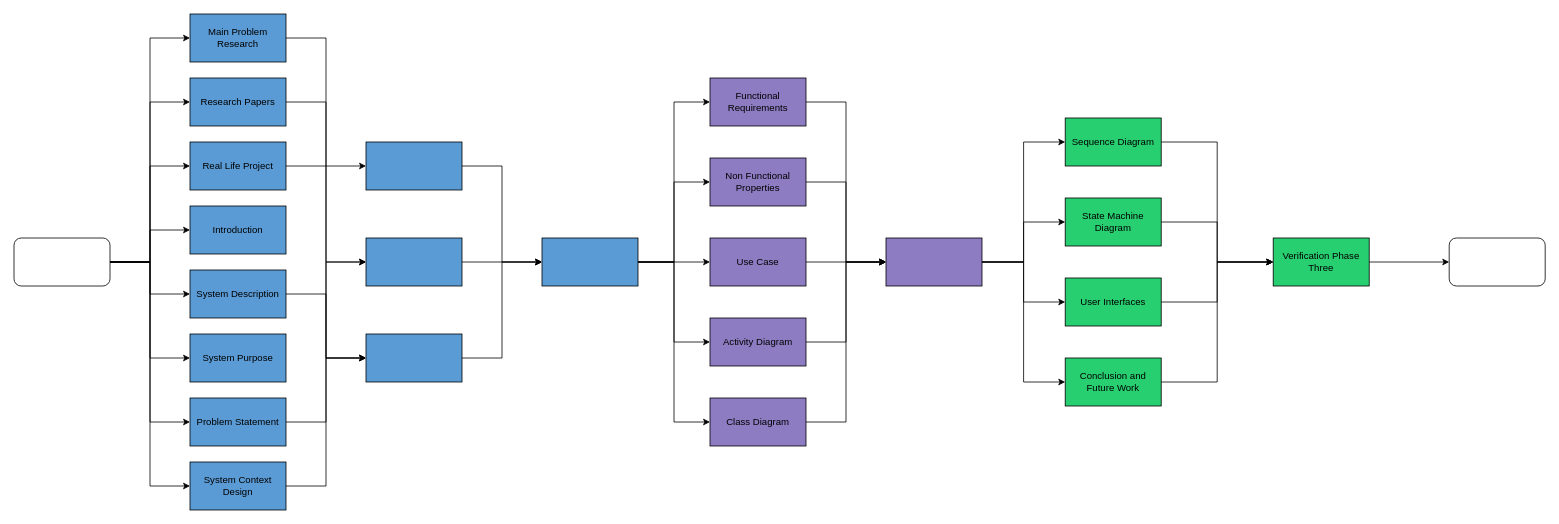
Some shapes in this 1559 by 524 pixel diagram are drawn without their labels. Here are the shapes that lost their labels. From the top down, the centre of each, then its label:
At point 413,165: "Literature Review".
At point 61,261: "Start".
At point 413,261: "Challenges".
At point 589,261: "Verification Phase One".
At point 933,261: "Verification Phase Two".
At point 1496,261: "End".
At point 413,357: "Projection".
